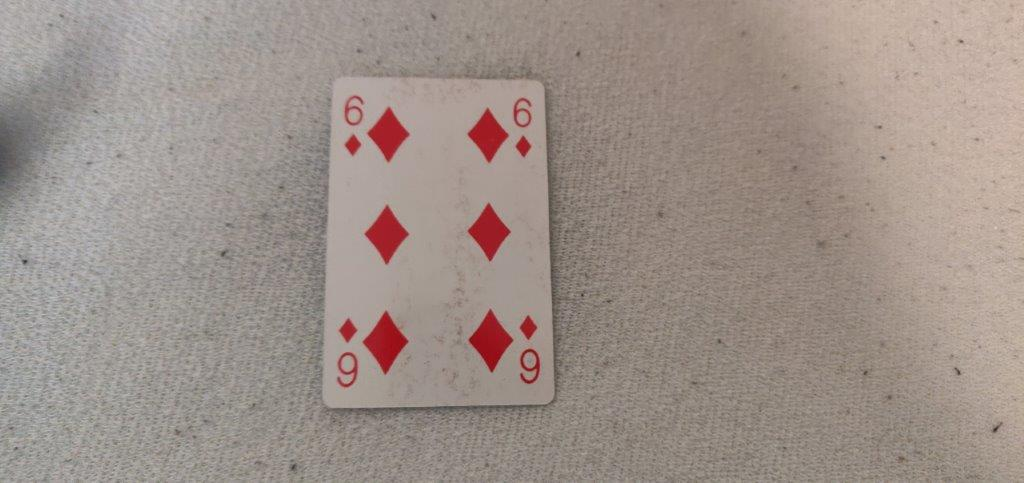6D: (510, 91, 540, 162), (338, 90, 368, 159)
